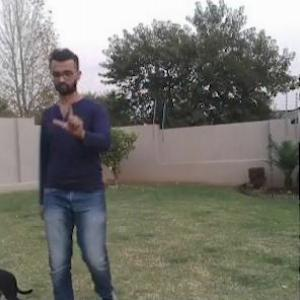land_hand: (51, 97, 89, 141)
